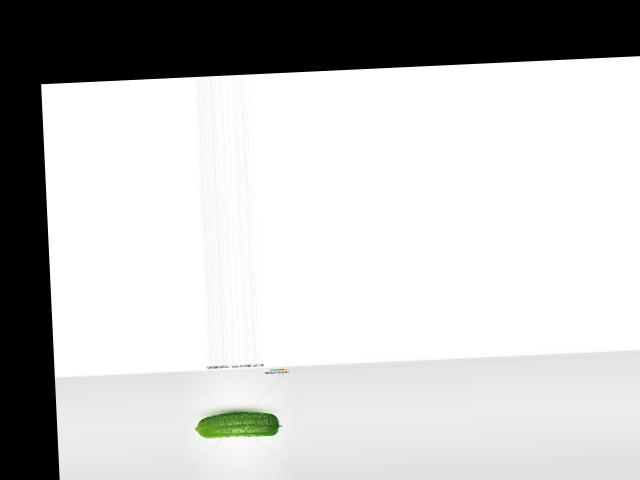cucumber: (193, 410, 282, 439)
